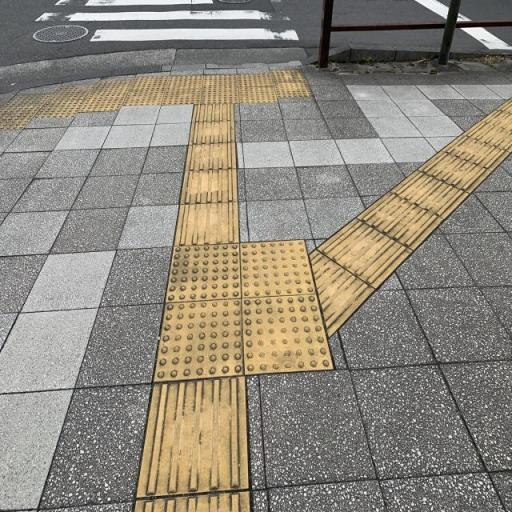dot: (240, 294, 334, 375), (153, 298, 244, 381), (165, 244, 241, 302), (241, 240, 317, 295)
line: (136, 375, 249, 498), (317, 218, 414, 289), (357, 192, 446, 250), (391, 169, 467, 220), (417, 149, 492, 194), (172, 203, 239, 246), (442, 134, 510, 170), (180, 168, 239, 203), (185, 142, 237, 170), (188, 121, 235, 144)
